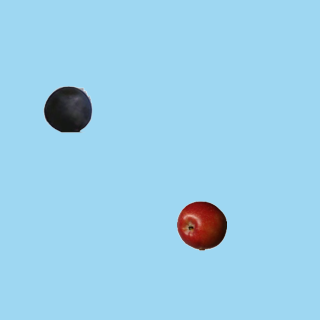Apple Braeburn: (176, 200, 226, 250)
Grape Blue: (42, 83, 92, 133)
